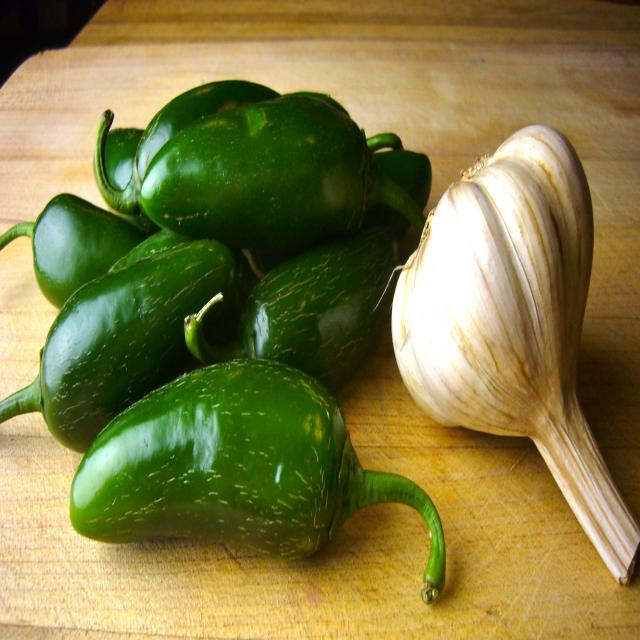aji: (94, 97, 389, 567)
